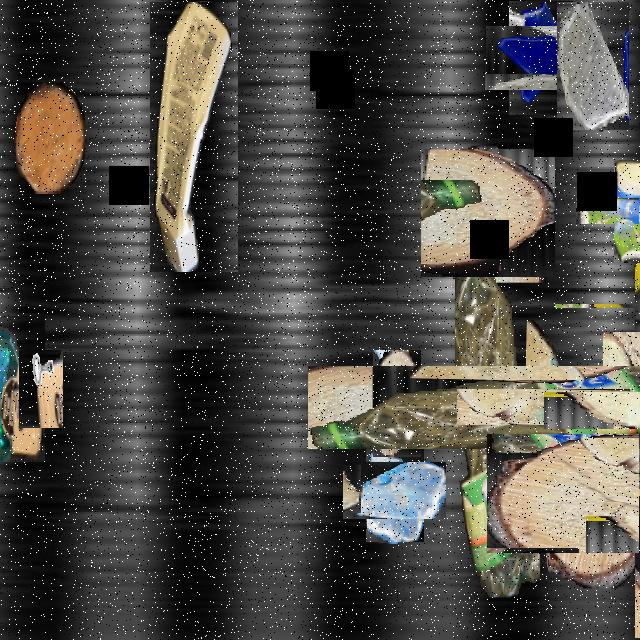glass: (557, 2, 629, 130), (496, 14, 586, 103), (355, 450, 435, 531)
metal: (19, 351, 63, 428)
plastic: (382, 292, 612, 522), (150, 2, 238, 272), (0, 316, 45, 462), (595, 263, 640, 348), (594, 179, 640, 243)
wood: (503, 417, 640, 570), (422, 148, 554, 279), (490, 354, 596, 460), (15, 84, 85, 194), (573, 362, 640, 458), (358, 365, 436, 442), (635, 496, 640, 638)
